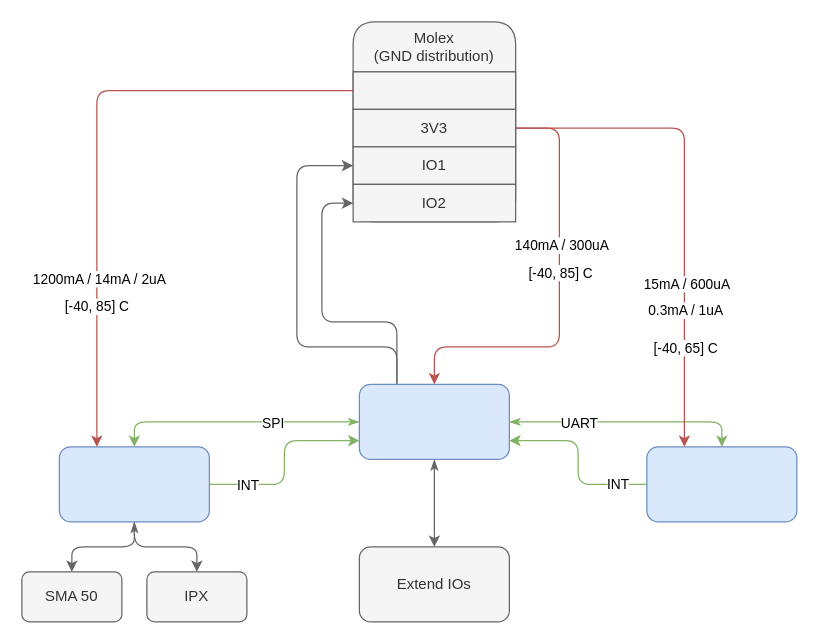
The diagram is 819 pixels wide and 644 high, and some of its shapes have lost their labels. The centre of each missing label's shape, as x and y in pixels:
"5V" belongs at (434,90).
"E22-400M33S / 900" belongs at (133,484).
"HM11 BLE / MAX3221" belongs at (721,484).
"STM32L433CCT6 (RTC)" belongs at (433,421).
